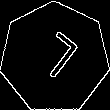L_SW: (28, 28, 82, 87)
